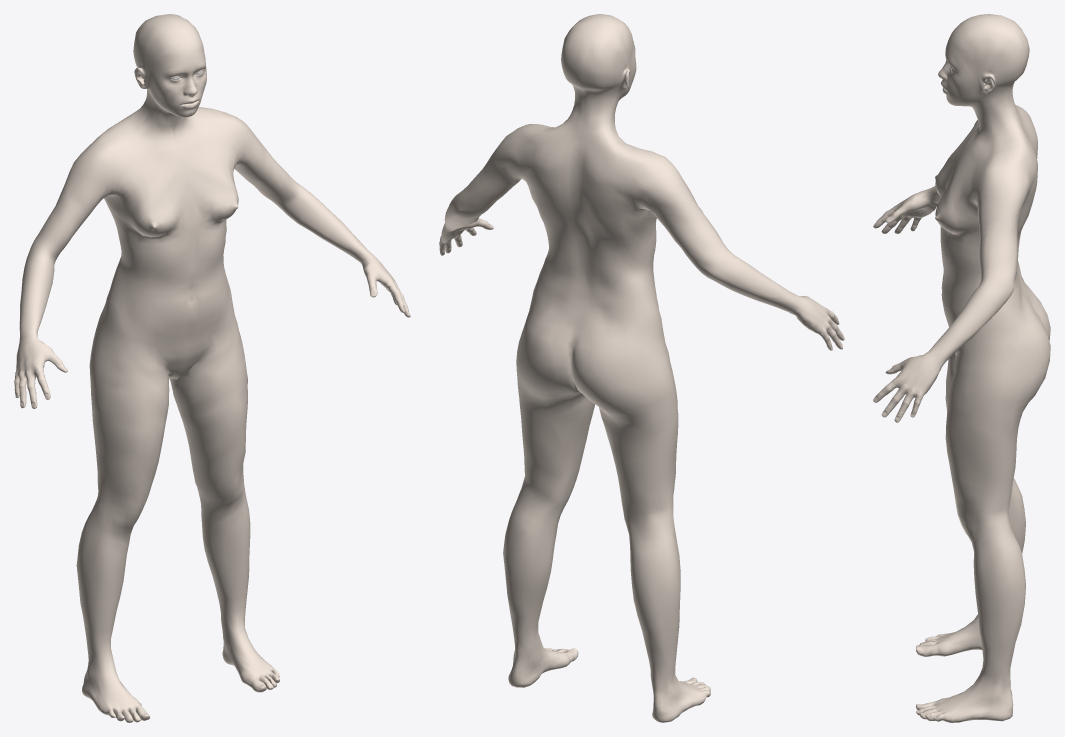
File: body_female.glb
The picture shows the model from 3 angles, left to right: view 1: azimuth 30°, elevation 25°; view 2: azimuth 150°, elevation 25°; view 3: azimuth 270°, elevation 25°; orthographic projection. The views are drawn at different scales.
Visible parts, largest first — view 1: body; view 2: body; view 3: body.
Part boxes in pixels (left/top/right/bottom): body: left=14, top=14, right=410, bottom=722; body: left=439, top=14, right=844, bottom=722; body: left=873, top=14, right=1050, bottom=722.
Size of the model in its own units: 0.9707 by 1.59 by 0.3834.
